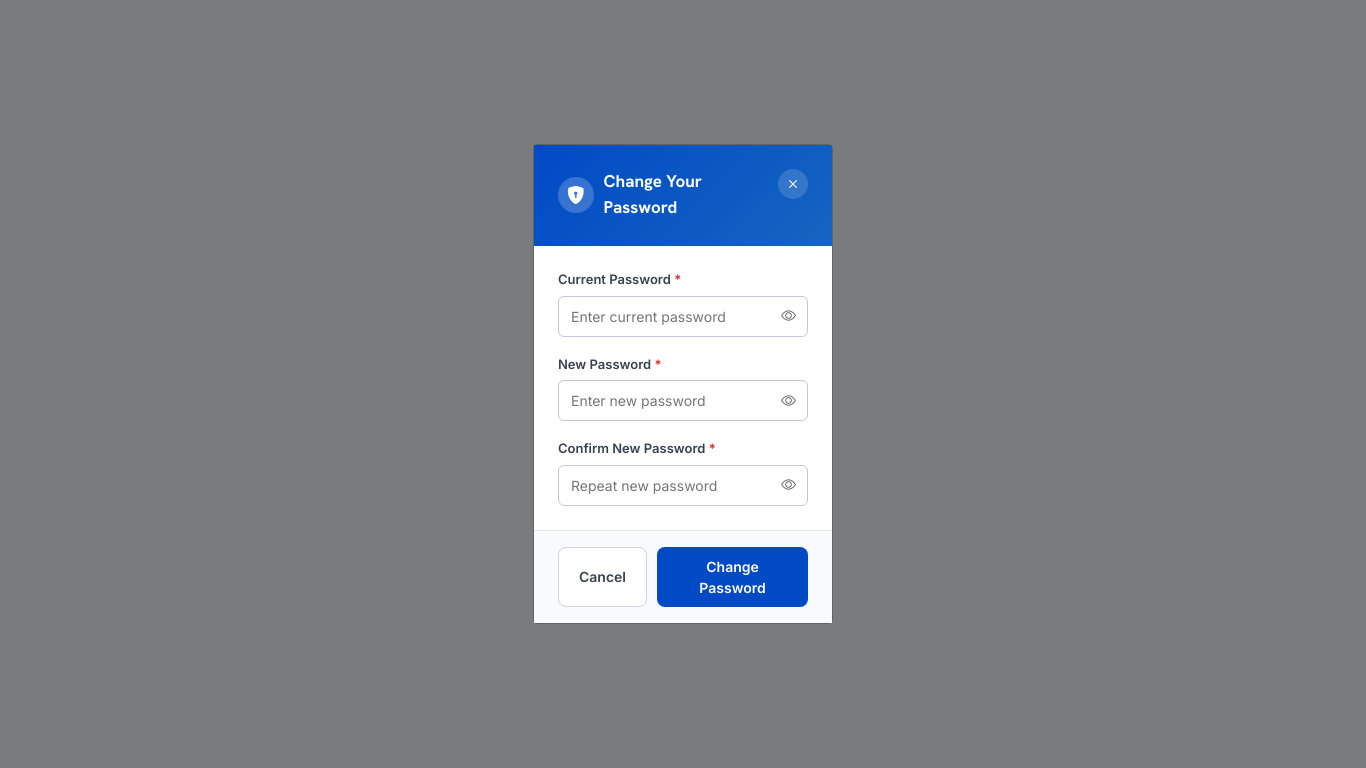
Test: ChangePasswordModal — self service › network failure shows a retry message and re-enables the button
Type "old" into the password field with placeholder "Enter current password". click: (683, 316)
box: x1=558 y1=296 x2=808 y2=337
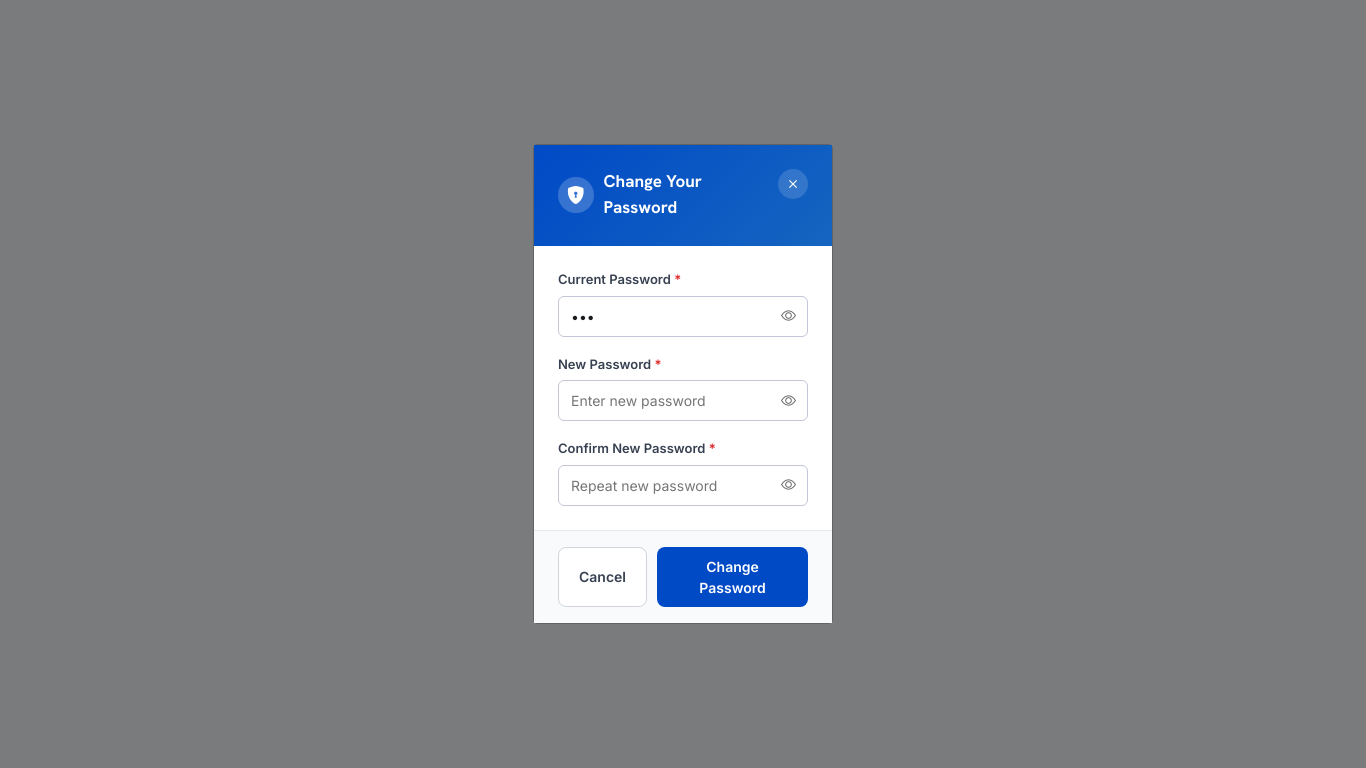
Type "NewPass1!" into the password field with placeholder "Enter new password". click: (683, 401)
box: x1=558 y1=380 x2=808 y2=421
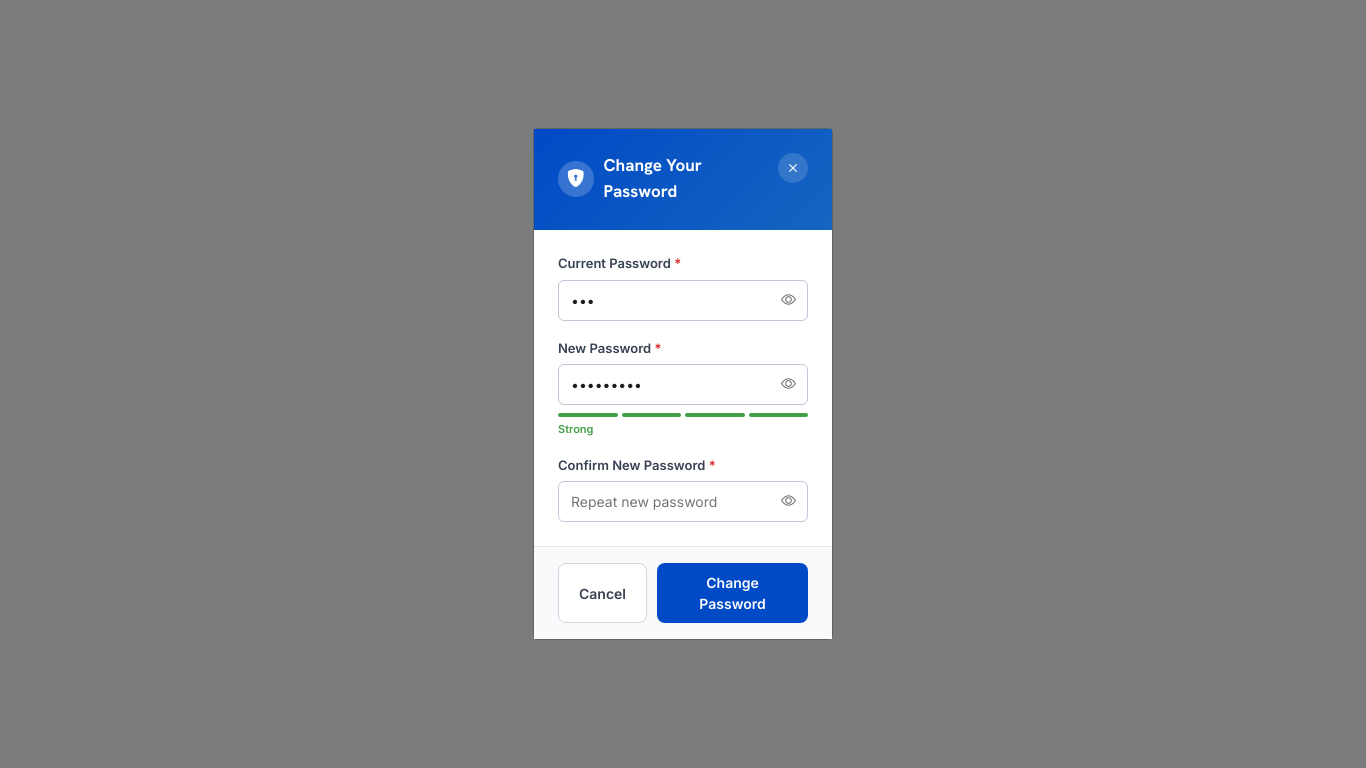
Type "NewPass1!" into the password field with placeholder "Repeat new password". click: (683, 502)
box: x1=558 y1=481 x2=808 y2=522
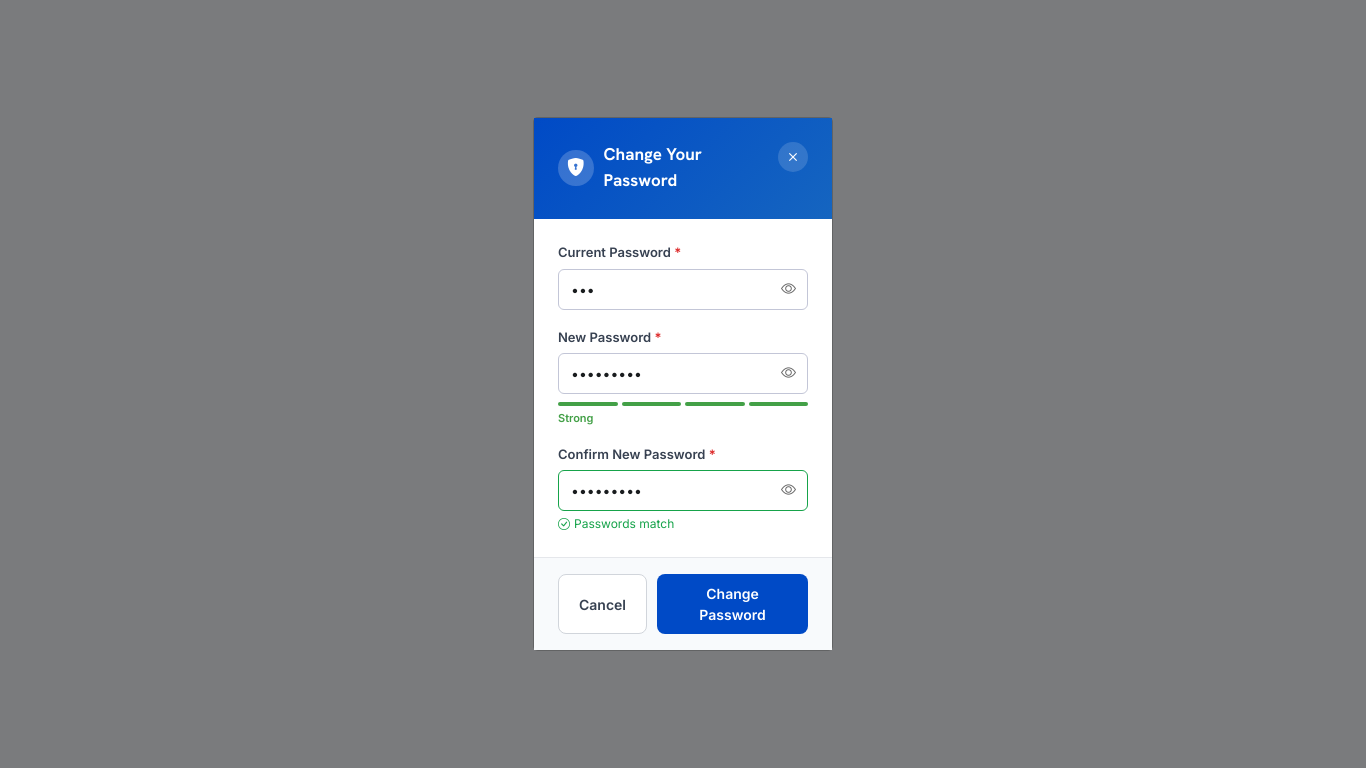
Click the button "Change Password". click: (732, 604)
box: x1=657 y1=574 x2=808 y2=634
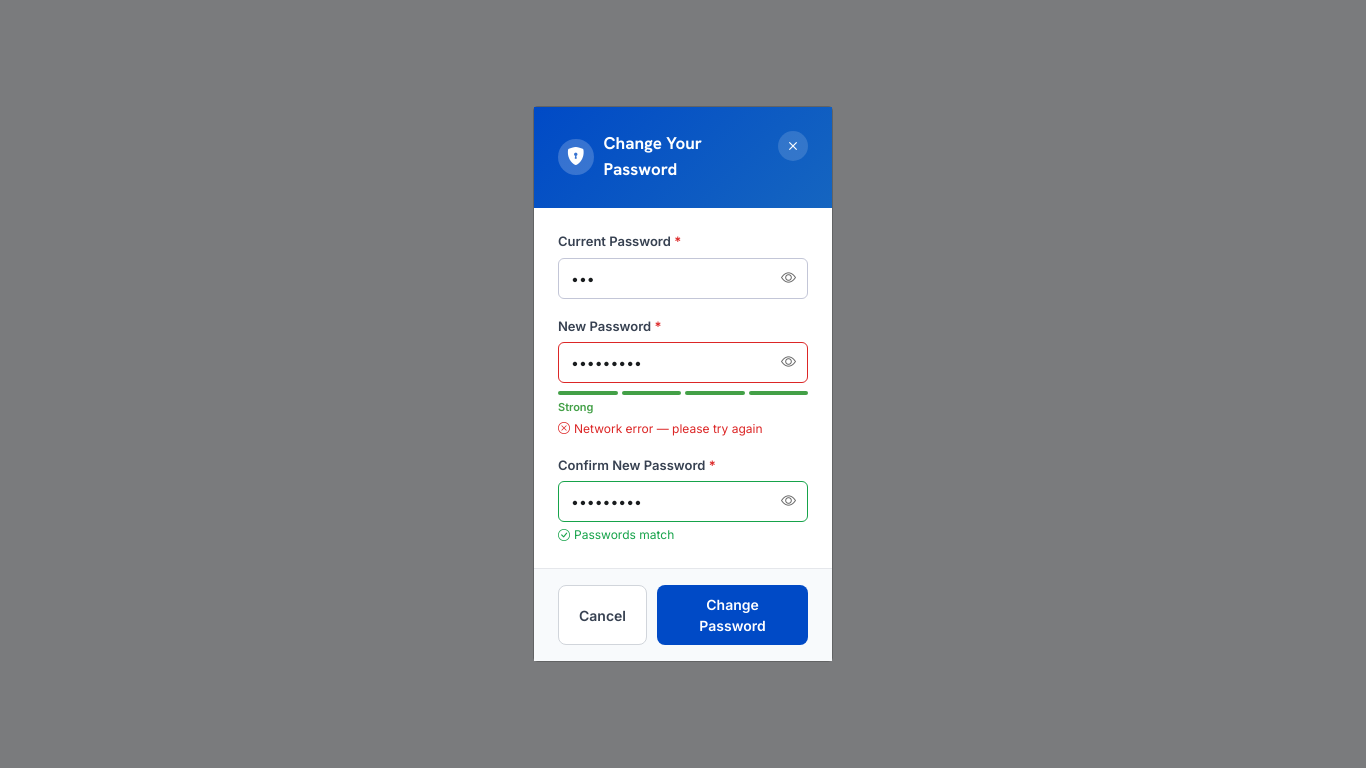
Check: the button "Change Password" is enabled, box x1=657 y1=585 x2=808 y2=645
Check: the text "Network error — please try again" is shown, box x1=558 y1=420 x2=762 y2=436
